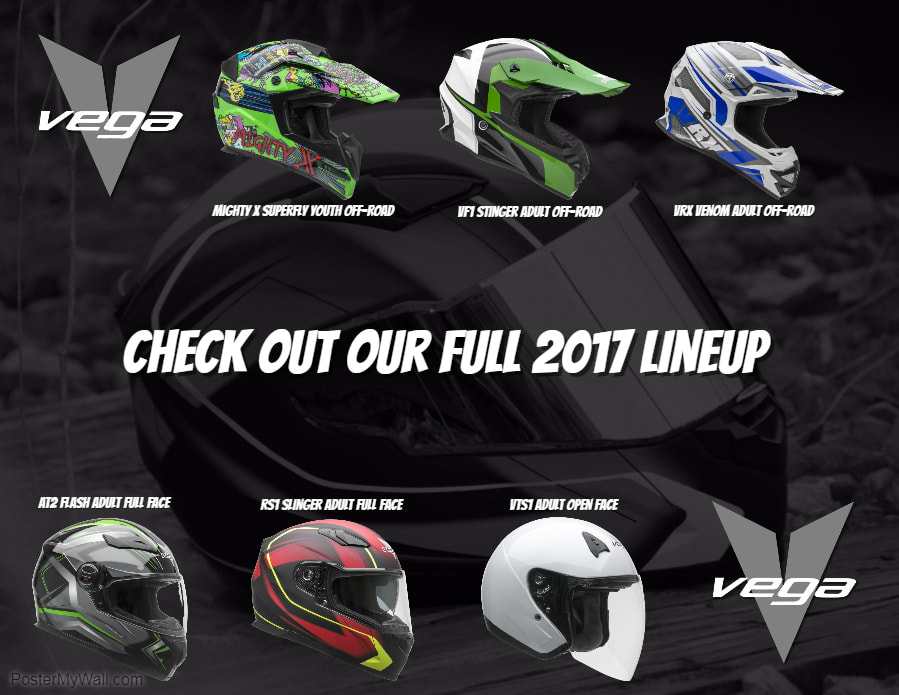helmet: (426, 29, 635, 197), (200, 29, 395, 200), (236, 515, 432, 680), (474, 516, 665, 685), (659, 32, 837, 205), (25, 512, 201, 676)
